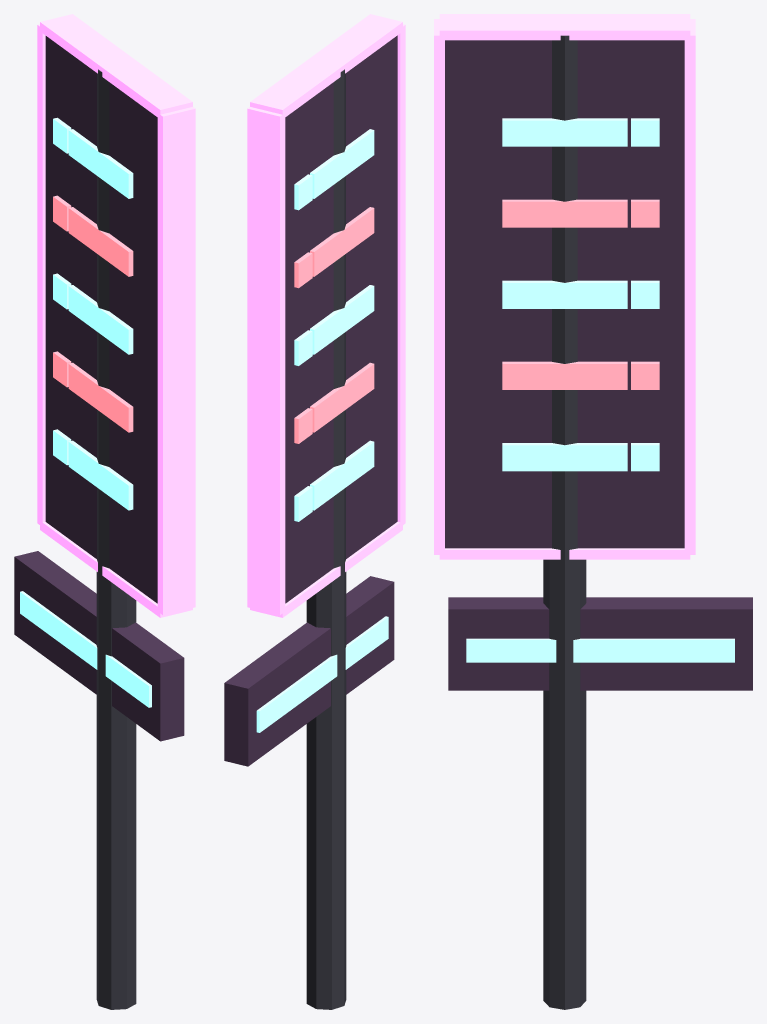
File: sign.glb
3 renders of one model, left to right at view 1: azimuth 30°, elevation 25°; view 2: azimuth 150°, elevation 25°; view 3: azimuth 270°, elevation 25°, orthographic. The views are drawn at different scales.
Visible parts, largest first — view 1: sign; view 2: sign; view 3: sign.
Boxes of the visible parts, x1=… form: sign: x1=14, y1=14, x2=195, y2=1009; sign: x1=224, y1=14, x2=405, y2=1009; sign: x1=434, y1=14, x2=752, y2=1009.
Size of the model in its own units: 0.24 by 6.03 by 1.78.
